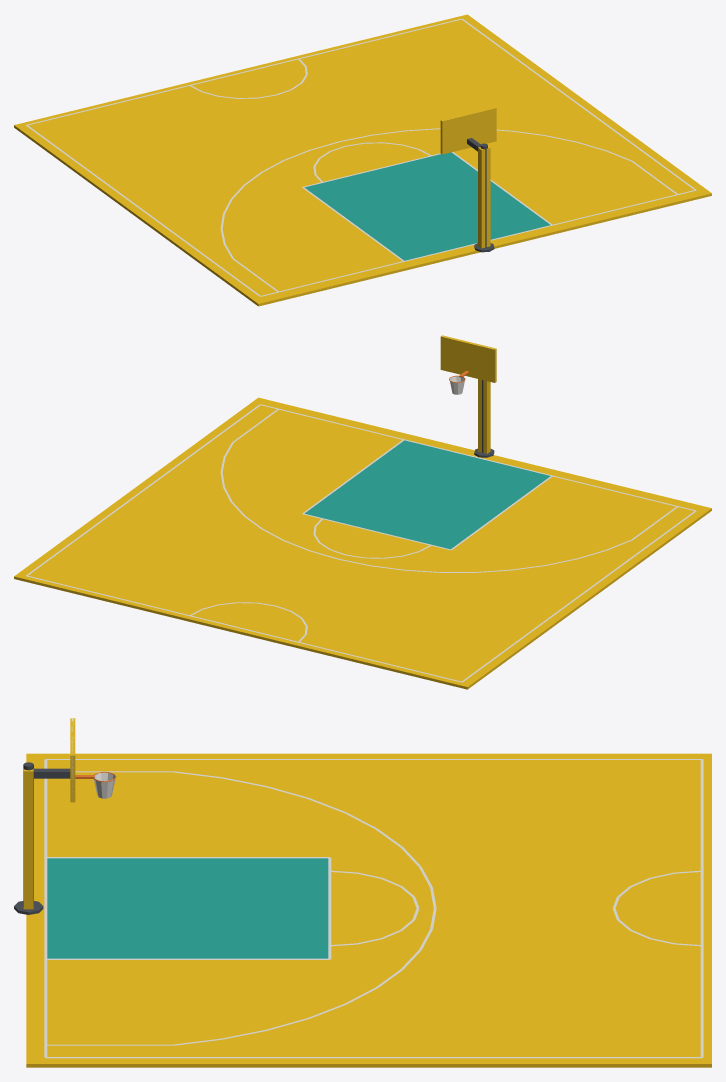
File: lm_basketball.glb
3 renders of one model, top to bottom at view 1: azimuth 30°, elevation 25°; view 2: azimuth 150°, elevation 25°; view 3: azimuth 270°, elevation 25°, orthographic. The views are drawn at different scales.
Parts seen in each view (by area): view 1: lm_basketball__col, lm_basketball__shell; view 2: lm_basketball__col, lm_basketball__shell; view 3: lm_basketball__col, lm_basketball__shell.
Boxes of the visible parts, x1=… form: lm_basketball__col: x1=14, y1=14, x2=711, y2=306; lm_basketball__shell: x1=26, y1=18, x2=696, y2=296; lm_basketball__col: x1=14, y1=335, x2=711, y2=689; lm_basketball__shell: x1=26, y1=336, x2=696, y2=682; lm_basketball__col: x1=23, y1=718, x2=711, y2=1067; lm_basketball__shell: x1=14, y1=718, x2=703, y2=1058.
Bounding box in the file's own units: 15 × 3.95 × 14.25.
1 material, 1 textured.
